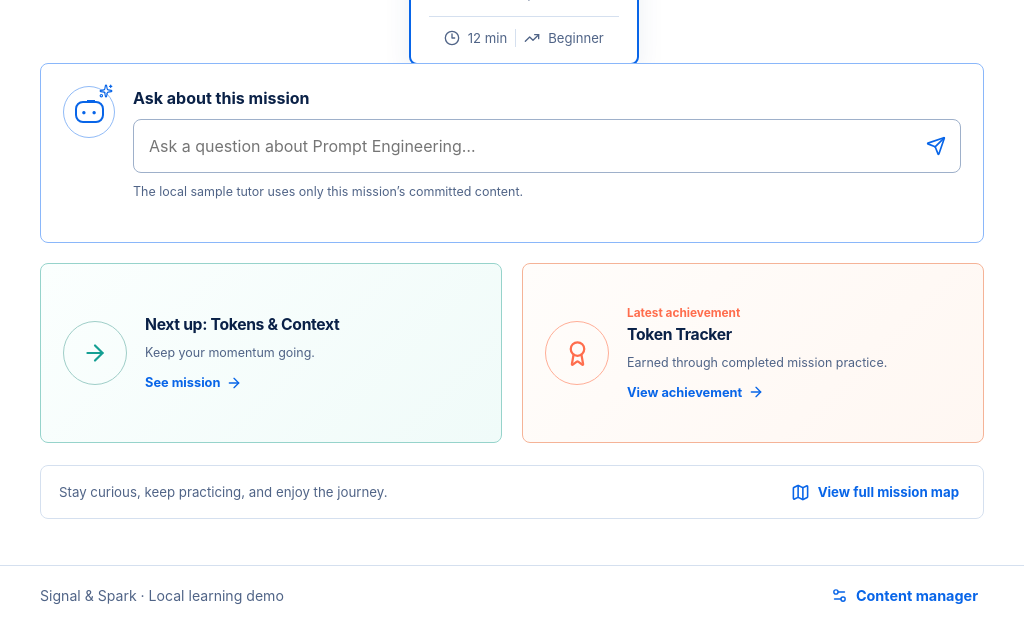
Scenario: Signal & Spark app › opens the content manager and exposes the publishing gate
The width and height of the screenshot is (1024, 625).
(page scrolled)
Click the button "Content manager" at (904, 596), box top-left (825, 586), bottom-right (984, 605)
(page scrolled)
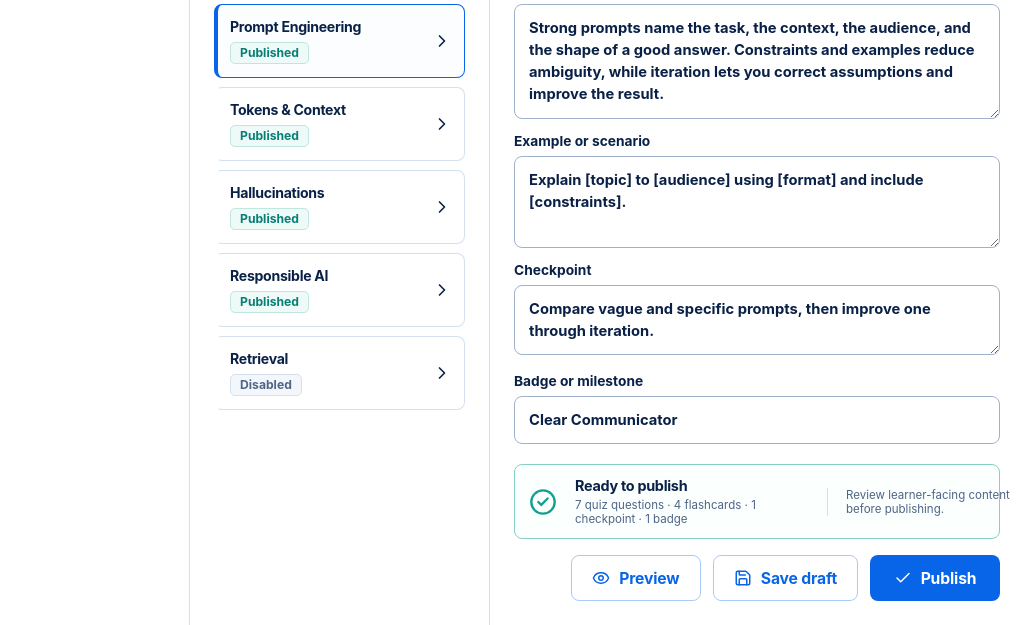
Now the text "Ready to publish" is shown, box top-left (575, 477), bottom-right (687, 494)
Now the button "Publish" is shown, box top-left (870, 555), bottom-right (1000, 601)
